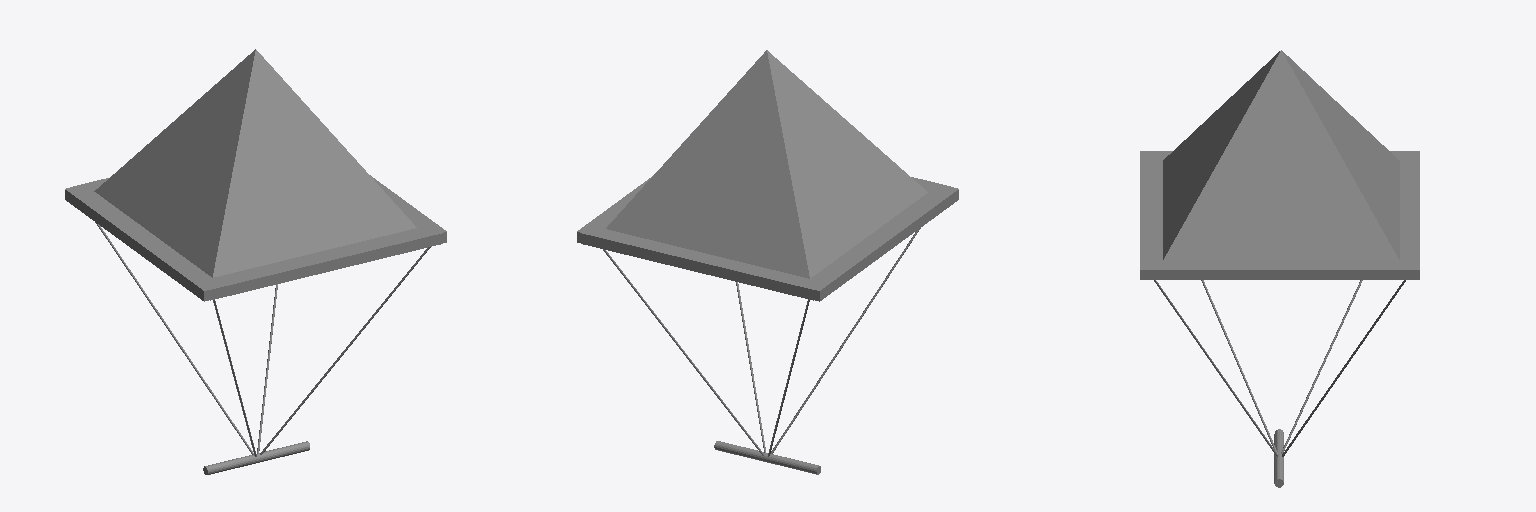
Rendered from Paracaidas.obj.
The picture shows the model from 3 angles: view 1: azimuth 30°, elevation 25°; view 2: azimuth 150°, elevation 25°; view 3: azimuth 270°, elevation 25°; orthographic projection.
Visible parts, largest first — view 1: Pyramid001, Box001, Box003, Cylinder001, Box004, Cylinder005, Cylinder003; view 2: Pyramid001, Box002, Box003, Cylinder001, Box004, Cylinder004, Cylinder002; view 3: Pyramid001, Box004, Box001, Box002, Box003.
Boxes of the visible parts, x1=… form: Pyramid001: x1=94, y1=49, x2=416, y2=277; Box001: x1=199, y1=225, x2=441, y2=300; Box003: x1=65, y1=184, x2=219, y2=301; Cylinder001: x1=203, y1=441, x2=309, y2=474; Box004: x1=370, y1=175, x2=446, y2=243; Cylinder005: x1=95, y1=222, x2=253, y2=454; Cylinder003: x1=260, y1=247, x2=430, y2=454; Pyramid001: x1=606, y1=50, x2=927, y2=278; Box002: x1=582, y1=225, x2=824, y2=300; Box003: x1=801, y1=184, x2=958, y2=301; Cylinder001: x1=714, y1=441, x2=820, y2=474; Box004: x1=577, y1=175, x2=653, y2=243; Cylinder004: x1=771, y1=228, x2=920, y2=453; Cylinder002: x1=603, y1=249, x2=764, y2=455; Pyramid001: x1=1163, y1=50, x2=1399, y2=260; Box004: x1=1140, y1=260, x2=1419, y2=279; Box001: x1=1140, y1=161, x2=1162, y2=266; Box002: x1=1397, y1=161, x2=1419, y2=266; Box003: x1=1140, y1=151, x2=1419, y2=160.
Size of the model in its own units: 46.72 by 75.81 by 46.72.